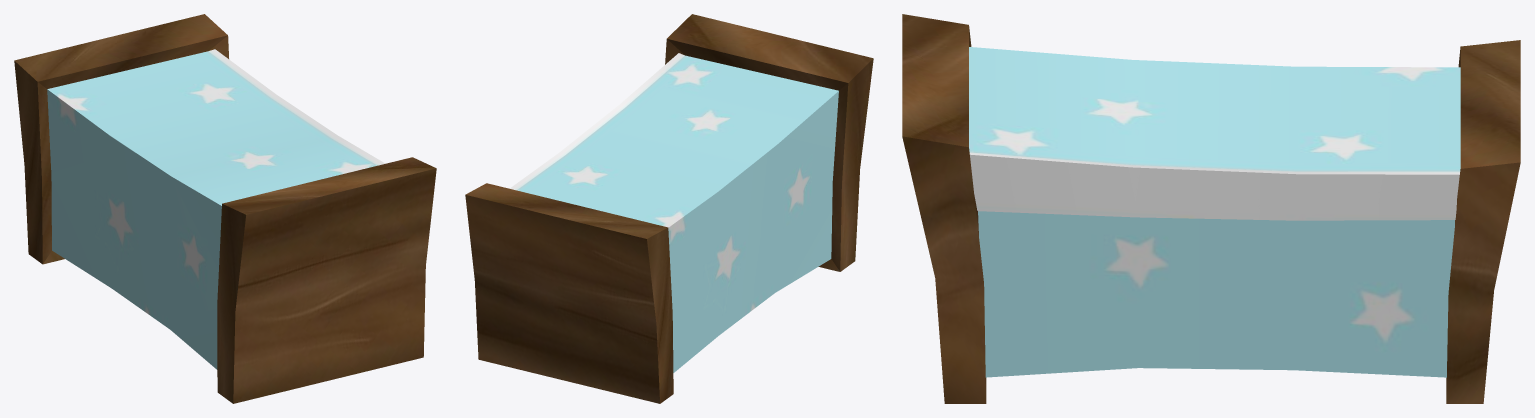
File: SM_ToyBox.fbx
The picture shows the model from 3 angles, left to right: view 1: azimuth 30°, elevation 25°; view 2: azimuth 150°, elevation 25°; view 3: azimuth 270°, elevation 25°; orthographic projection. The views are drawn at different scales.
Visible parts, largest first — view 1: pCube27.001; view 2: pCube27.001; view 3: pCube27.001.
Part boxes in pixels (bbox=[...]): pCube27.001: bbox=[14, 14, 436, 403]; pCube27.001: bbox=[465, 14, 873, 403]; pCube27.001: bbox=[902, 14, 1520, 403].
Bounding box in the file's own units: 194 × 193 × 408.
